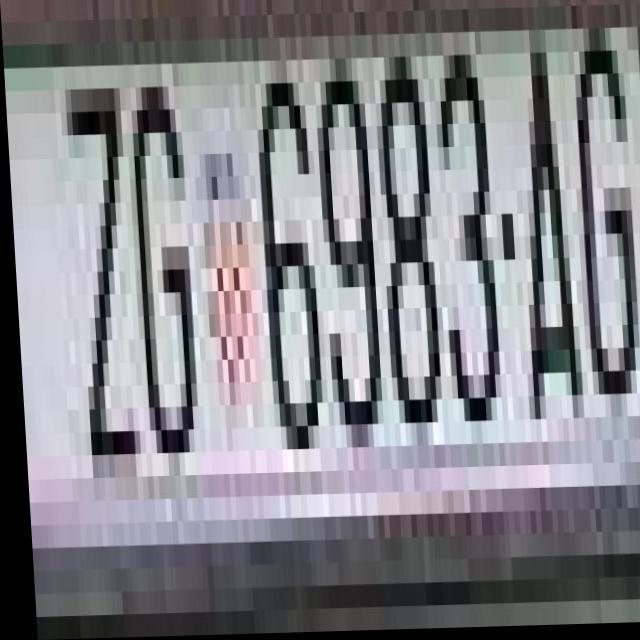3: (427, 80, 496, 402)
6: (253, 84, 316, 497)
8: (364, 13, 443, 426)
9: (312, 38, 385, 450)
A: (506, 32, 584, 423)
G: (116, 42, 200, 454), (571, 8, 640, 421)
Z: (57, 43, 130, 456)
